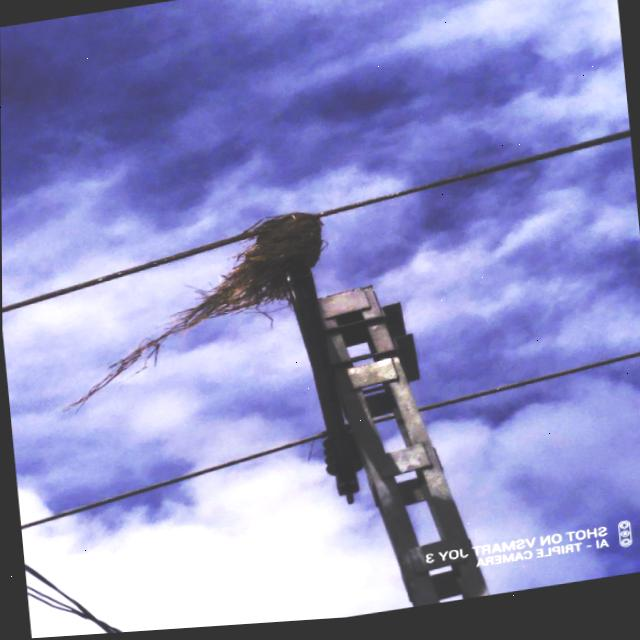obstruction: (56, 197, 375, 419)
poles: (291, 271, 497, 611)
wires: (318, 133, 629, 226), (24, 437, 313, 531), (11, 230, 234, 314), (419, 357, 640, 422), (29, 554, 136, 636)
